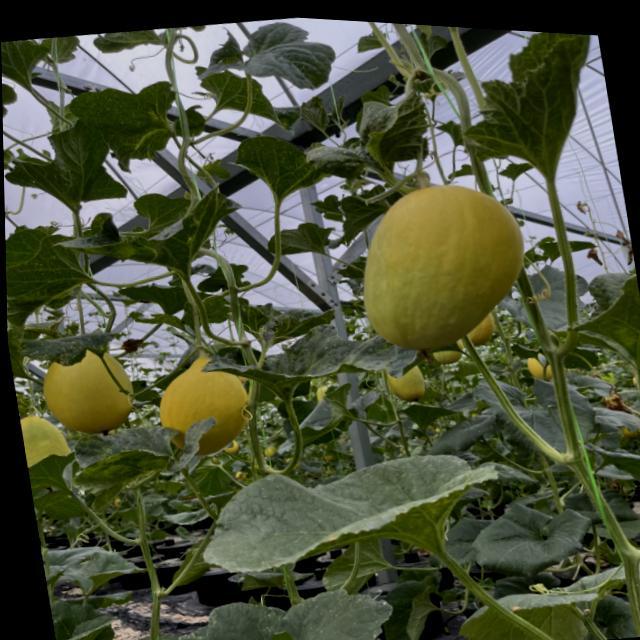CMV: (449, 27, 614, 191), (209, 307, 411, 415), (69, 184, 249, 287), (297, 86, 439, 190), (64, 404, 217, 490)
SLCV: (238, 287, 346, 351)
alternaria leaf blight: (458, 580, 603, 640)
downy mildew: (136, 564, 400, 640), (67, 71, 184, 170), (5, 216, 105, 329), (9, 316, 133, 381), (226, 129, 323, 204)
healthy: (189, 434, 499, 592), (186, 11, 347, 114), (2, 111, 133, 222), (466, 491, 598, 583), (50, 593, 125, 640), (1, 35, 57, 96), (115, 279, 189, 320)
powdery mildew: (137, 568, 400, 640)
